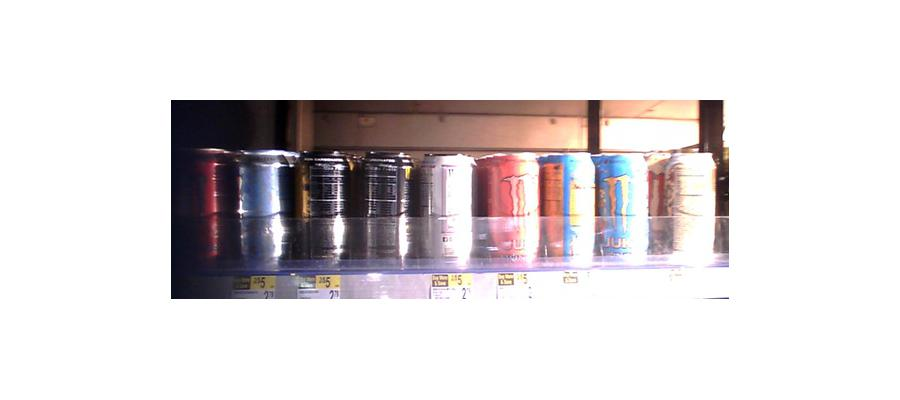bottle: (236, 140, 291, 272), (414, 152, 473, 269), (477, 153, 535, 266), (661, 143, 718, 256), (295, 150, 348, 269), (540, 150, 593, 267), (189, 142, 238, 264), (355, 155, 407, 268), (596, 150, 648, 257)
